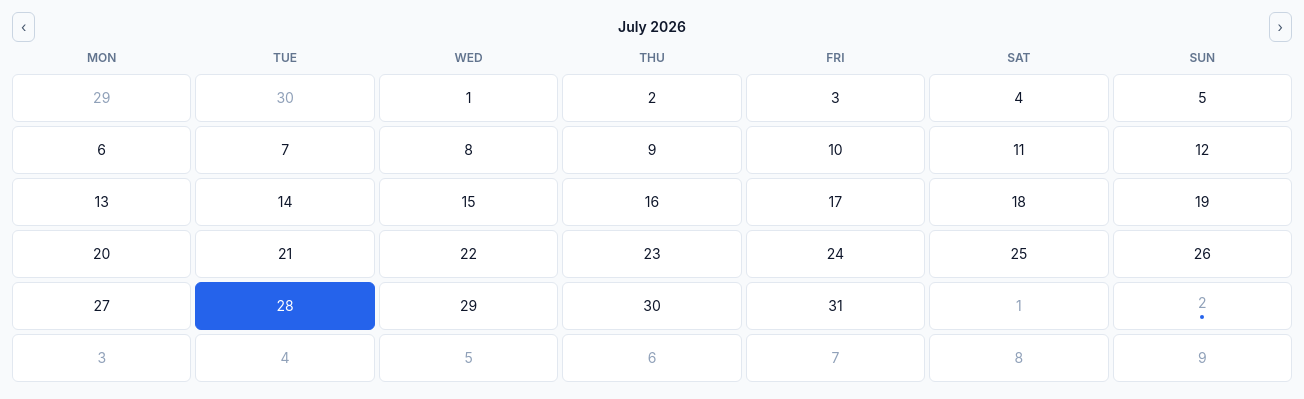
Test: MonthCalendar › navigates between months
Click the button "‹".
click(24, 27)  # box [12, 12, 35, 42]
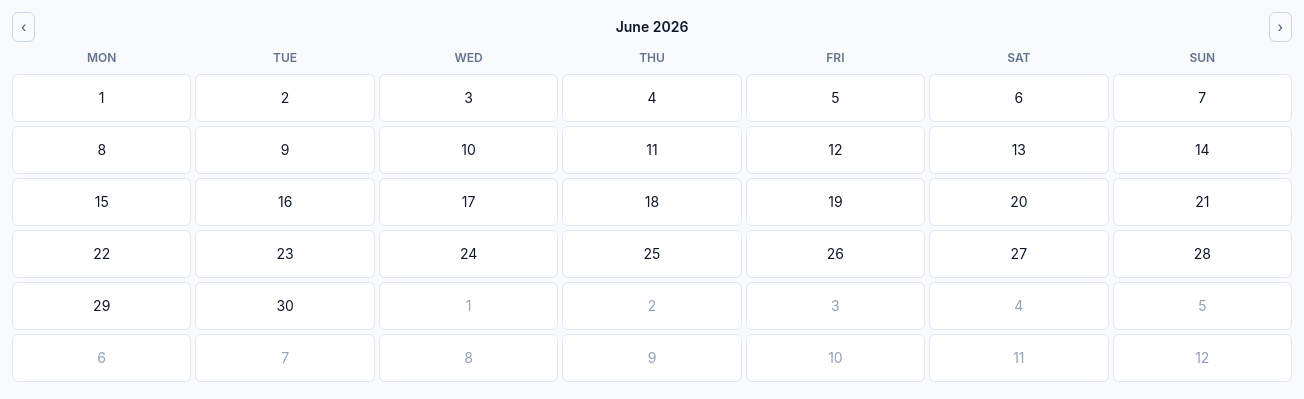
Expected: the text "June 2026" is shown, [616, 17, 688, 37]
Click the button "›".
click(1280, 27)  # box [1269, 12, 1292, 42]
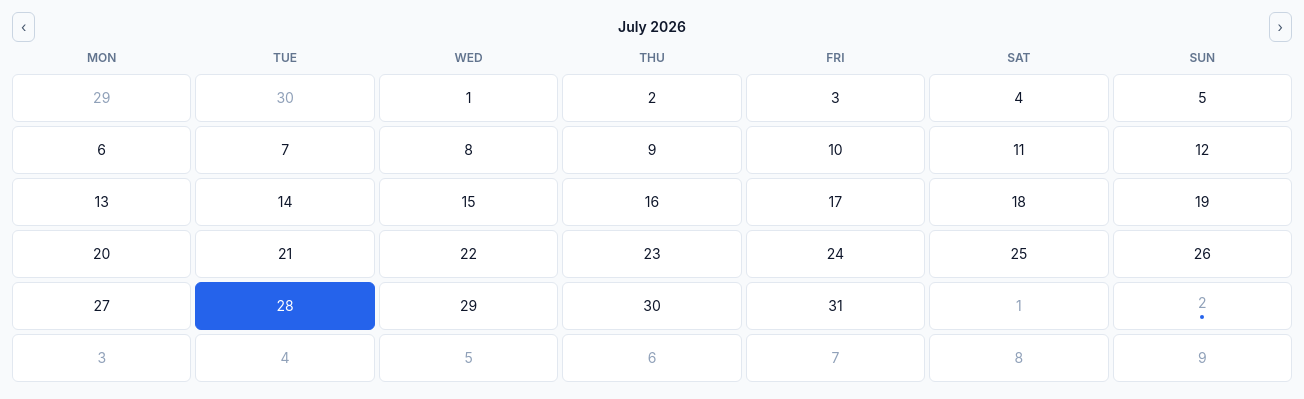
Click the button "›".
click(1280, 27)  # box [1269, 12, 1292, 42]
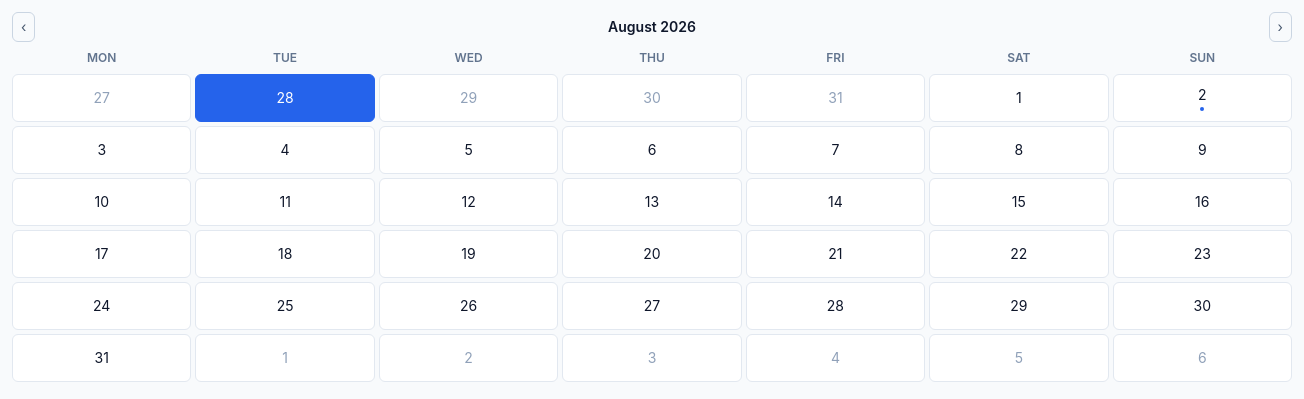
Expected: the text "August 2026" is shown, [608, 17, 696, 37]
